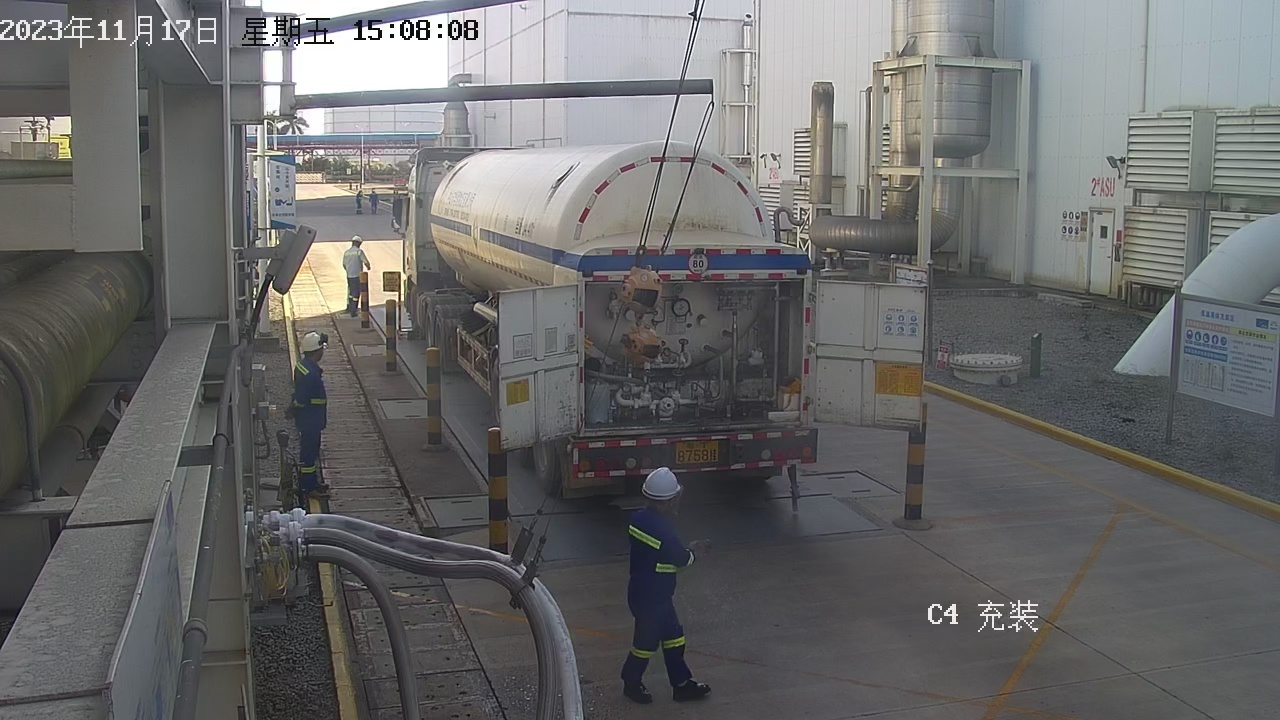Head_with_Helmet: (620, 448, 702, 520), (280, 326, 342, 366), (346, 230, 368, 249), (354, 187, 365, 195), (369, 188, 379, 195)
Uniform: (596, 505, 744, 709), (266, 355, 363, 509), (339, 245, 376, 324), (365, 192, 382, 215), (350, 193, 367, 215)
